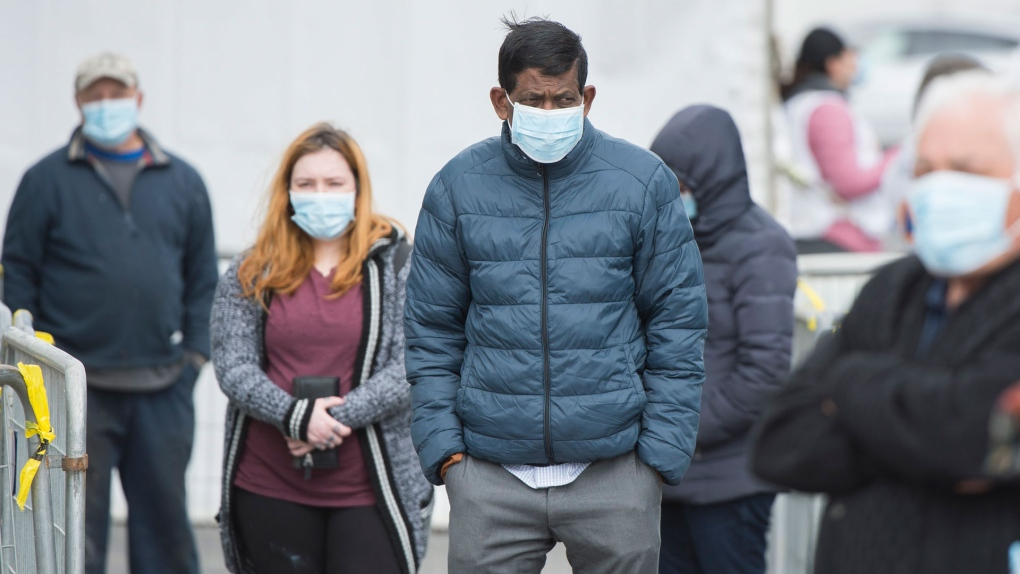with_mask: (916, 113, 1003, 264), (505, 62, 582, 159), (294, 153, 349, 234), (78, 71, 133, 140)
